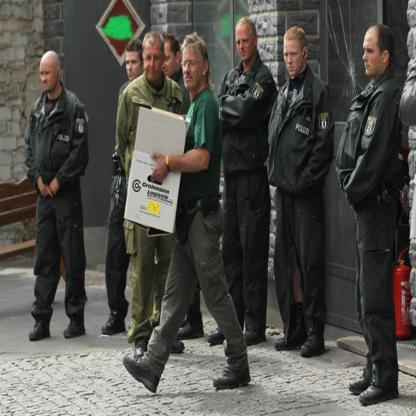face: (183, 46, 203, 90), (363, 32, 383, 75), (145, 41, 164, 82), (284, 39, 304, 76), (237, 25, 255, 61), (40, 60, 57, 91), (162, 41, 176, 78), (126, 51, 142, 81)
